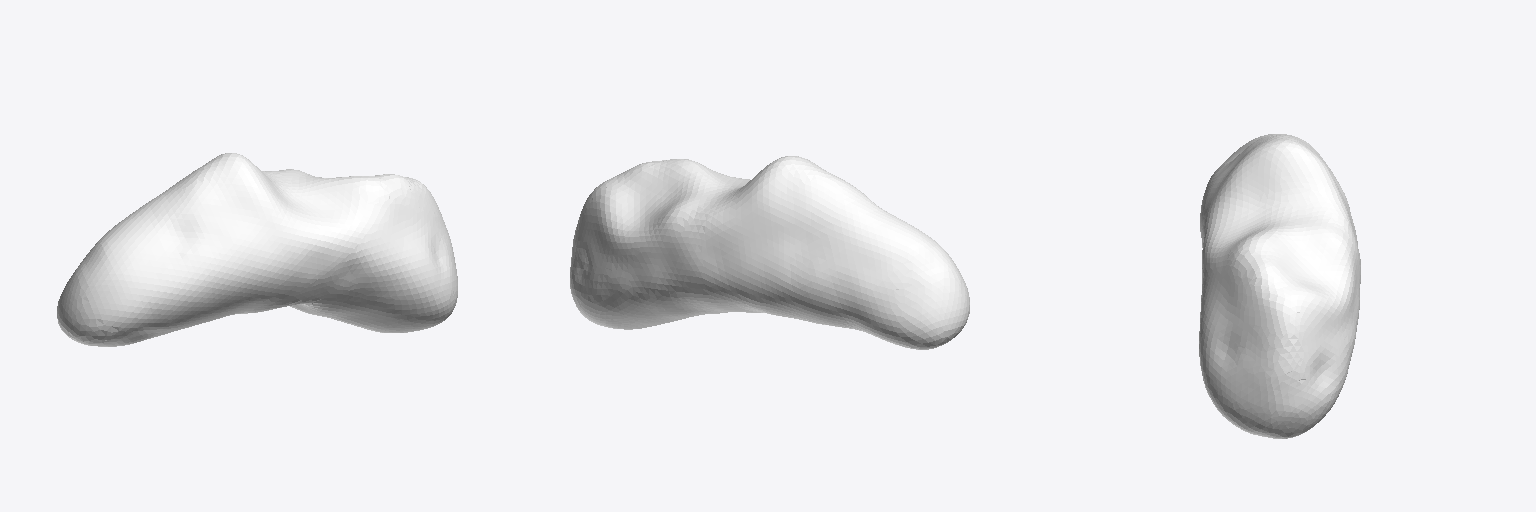
Rendered from ErosCrust03.obj.
3 views of the same model, side by side, from view 1: azimuth 30°, elevation 25°; view 2: azimuth 150°, elevation 25°; view 3: azimuth 270°, elevation 25° (orthographic).
Size of the model in its own units: 1.88 by 0.9643 by 0.6844.